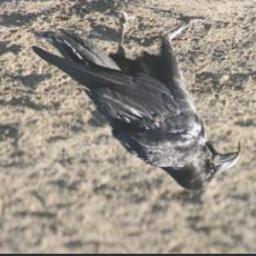Crow: (28, 1, 242, 195)
